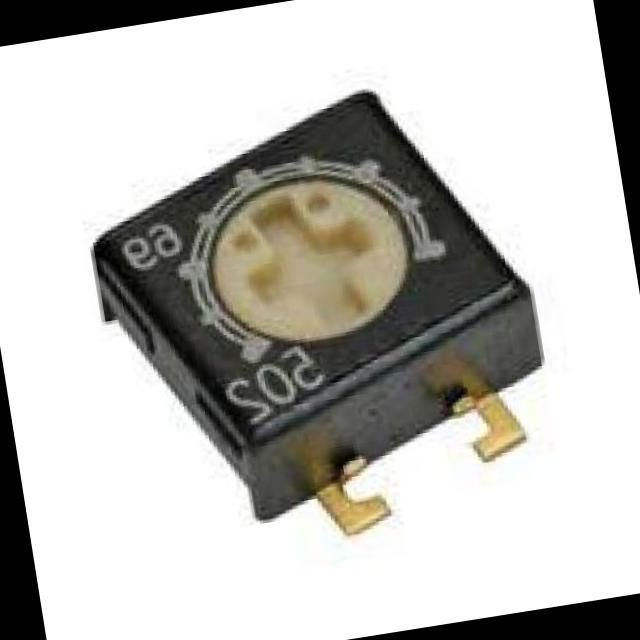potentiometer: (78, 57, 559, 582)
